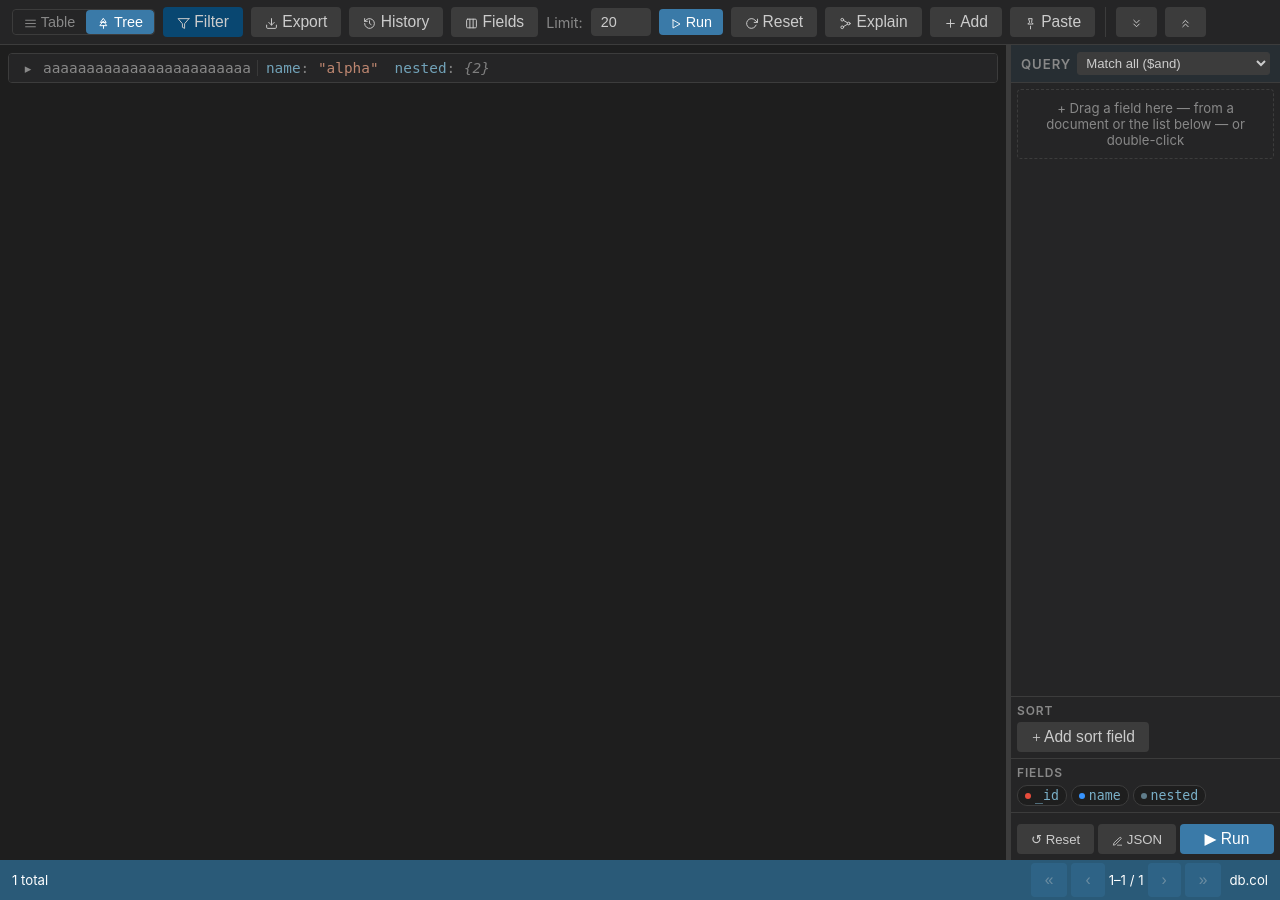
Scenario: DocumentsView — field visibility › refuses to hide _id — edit and delete key off it
What coordinates should you click on to do the following:
click the button "Fields"
I would click on:
 (495, 22)
Its box is [451,7,538,37].
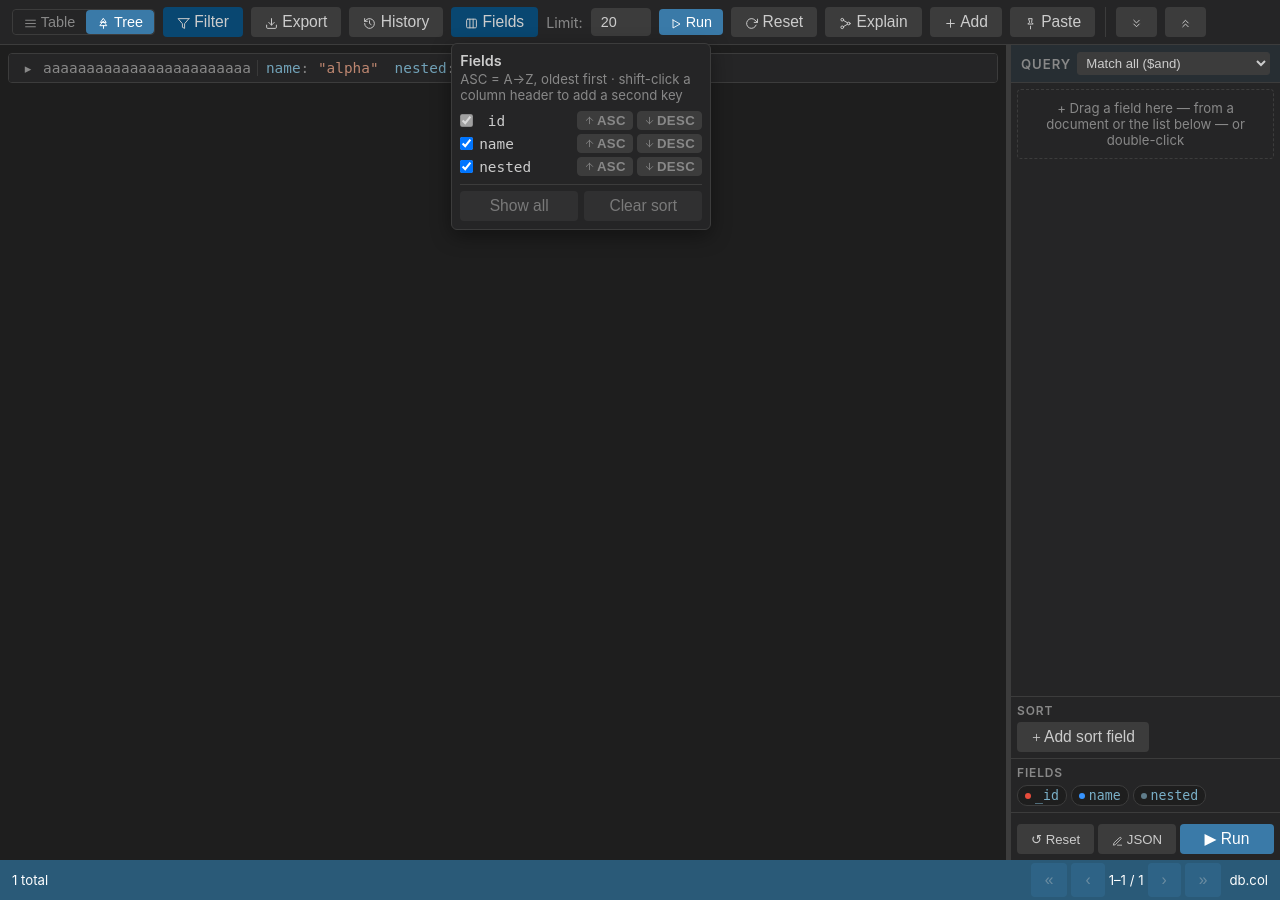
Expected: the checkbox labelled "_id" is disabled, [460,114,473,127]
